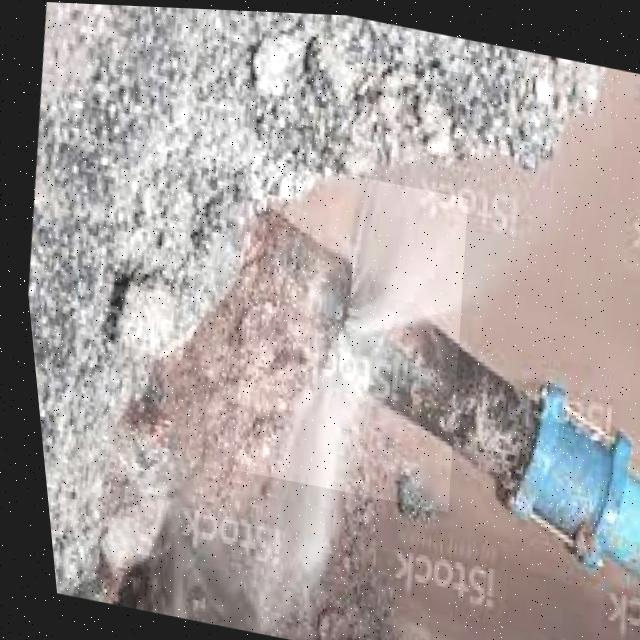corrosion: (208, 196, 474, 461)
